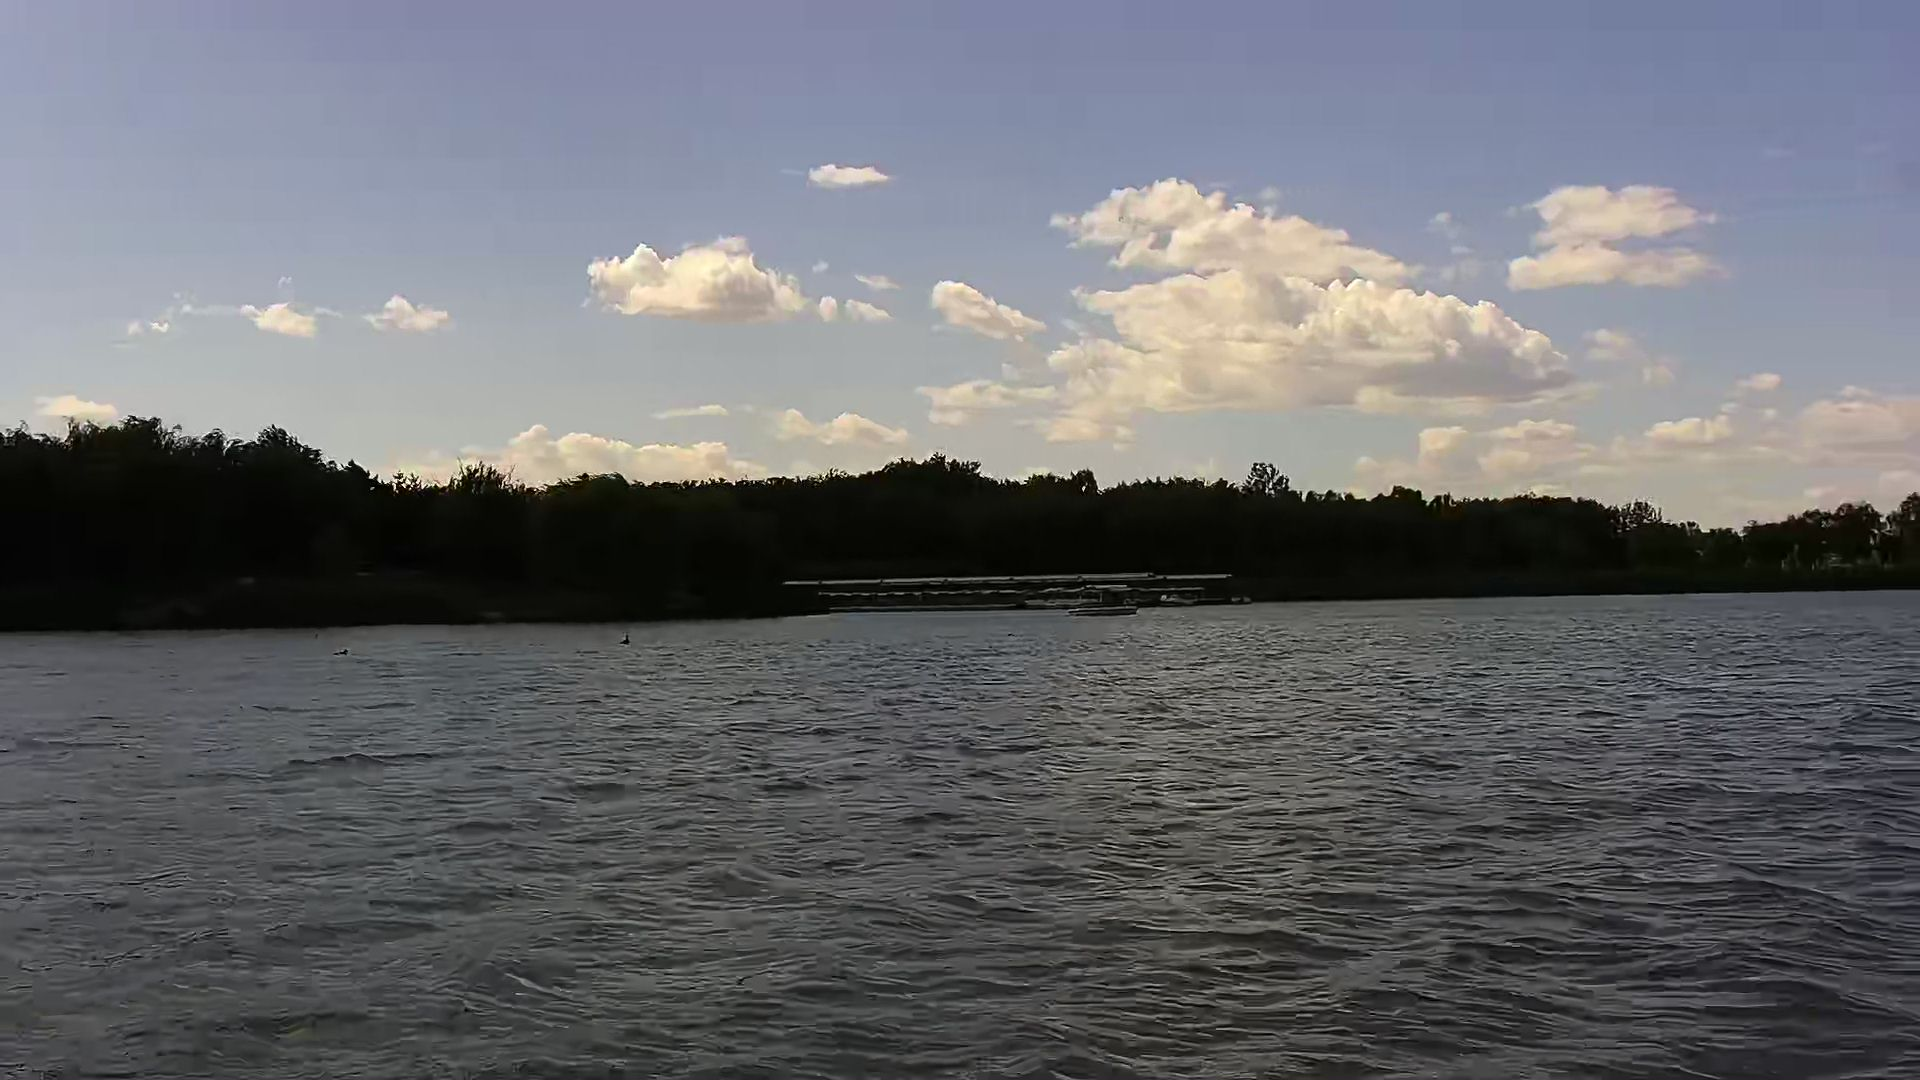boat: (1068, 582, 1149, 622)
harbor: (782, 571, 1247, 611)
